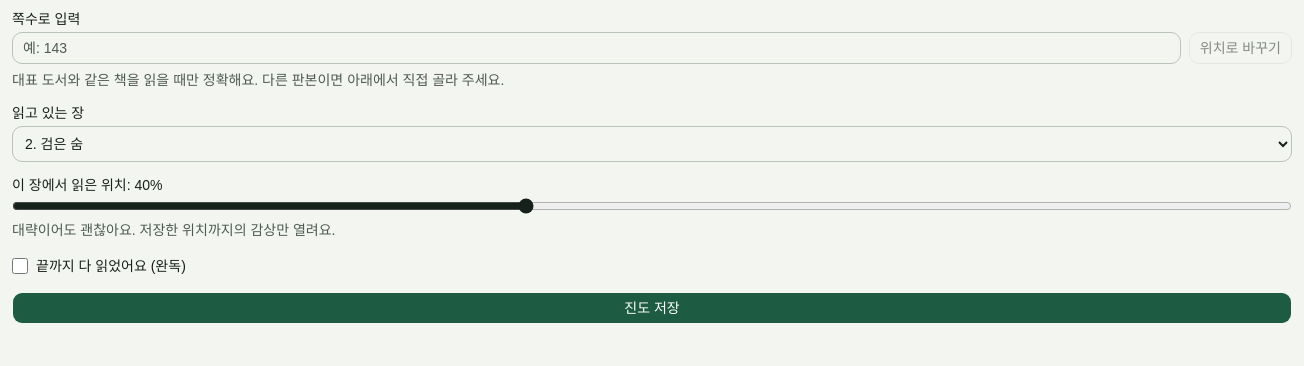
진도 입력 › 쪽수를 위치로 바꿔 장과 막대에 반영한다
Type "143" into the field labelled "쪽수로 입력" at (596, 48), box [12,32,1181,64]
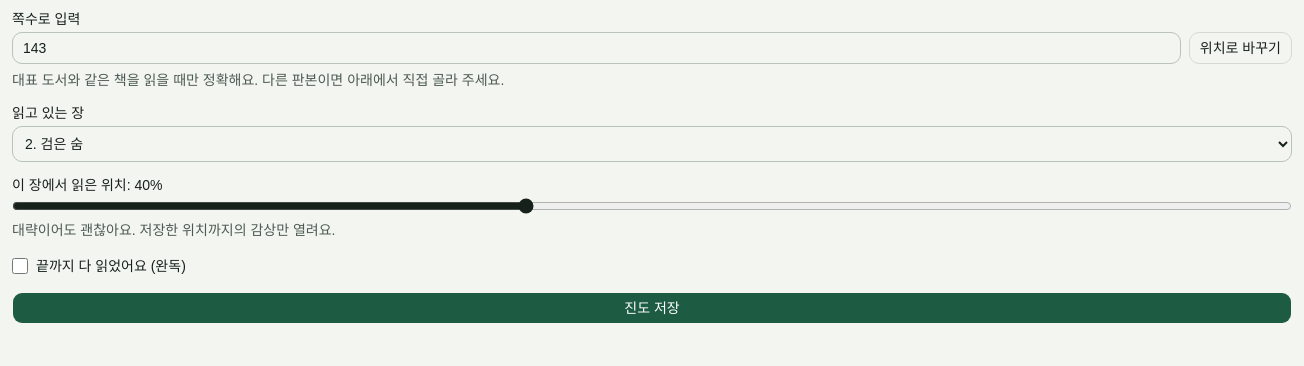
Click the button "위치로 바꾸기" at (1240, 48), box [1189,32,1292,64]
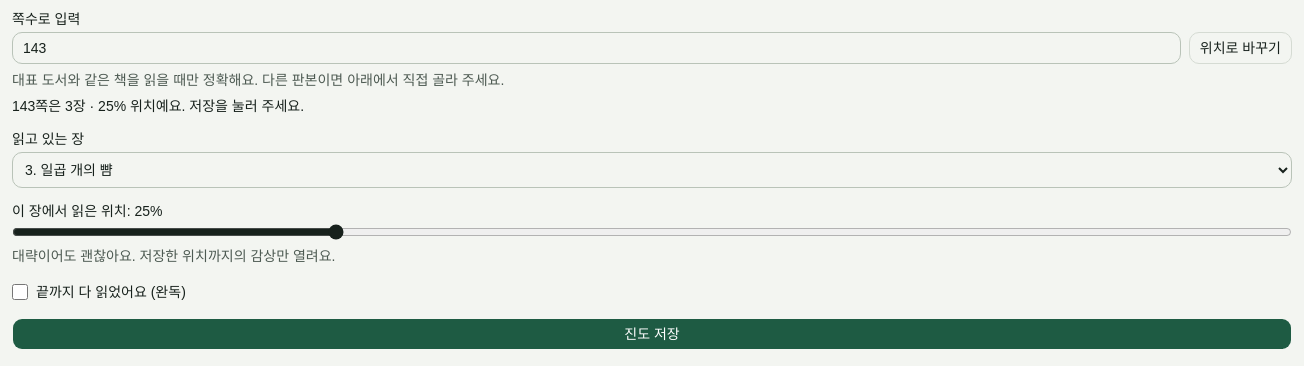
Check: the dropdown labelled "읽고 있는 장" shows "3. 일곱 개의 뺨", box [12,152,1292,188]
Check: the text "이 장에서 읽은 위치: 25%" is shown, box [12,203,162,219]
Check: the text "143쪽은 3장 · 25% 위치예요. 저장을 눌러 주세요." is shown, box [12,98,304,114]
